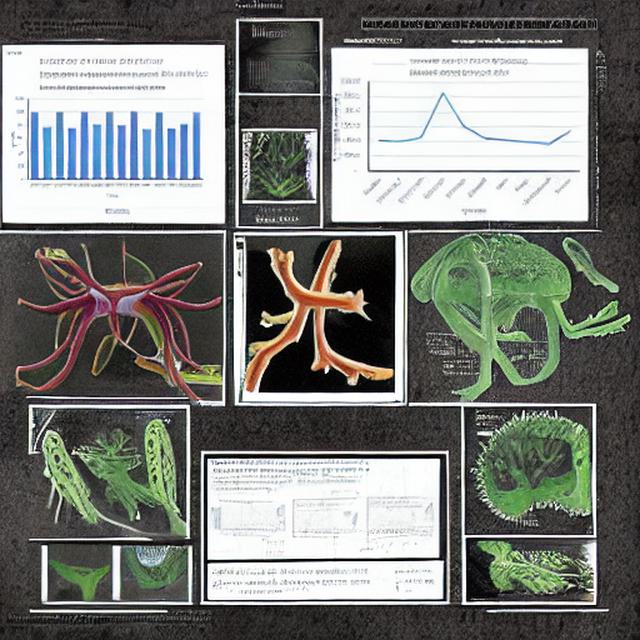Graph: (332, 67, 586, 216), (3, 81, 213, 204), (258, 52, 320, 94), (209, 498, 275, 537)
